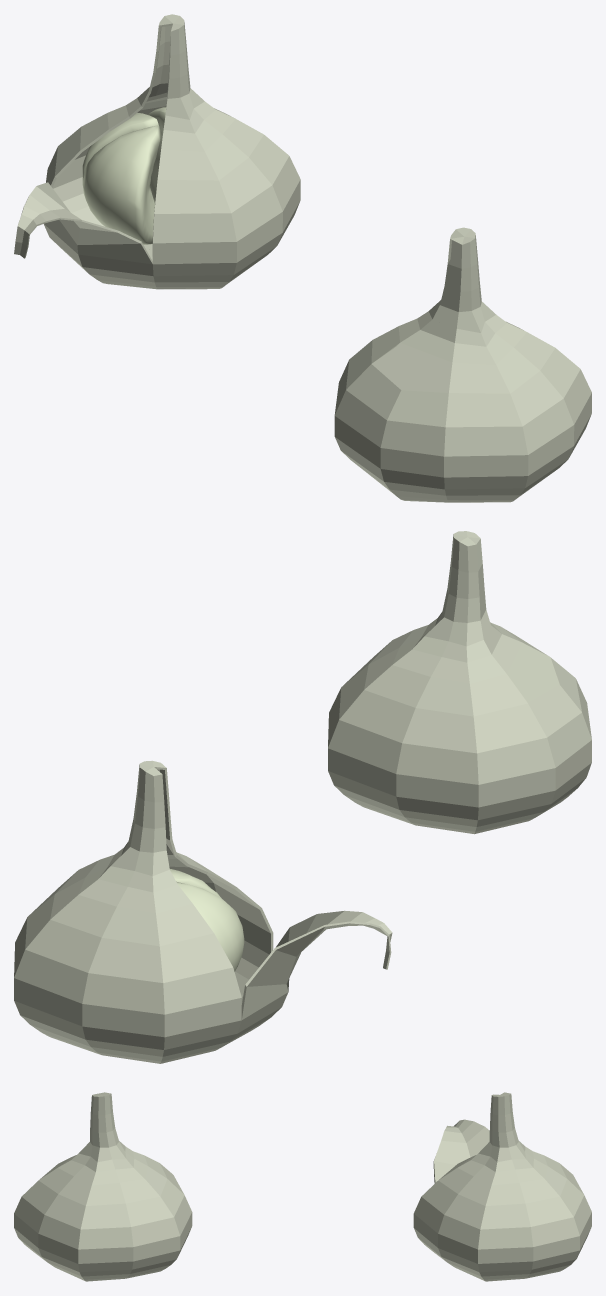
File: garlics.fbx
The picture shows the model from 3 angles, top to bottom: view 1: azimuth 30°, elevation 25°; view 2: azimuth 150°, elevation 25°; view 3: azimuth 270°, elevation 25°; orthographic projection. The views are drawn at different scales.
Visible parts, largest first — view 1: peel3.001, peel5, peel4, clove4, peel3, peel1, peel1.001, clove3, peel2; view 2: peel3.001, peel3, peel2, peel2.001, peel4, peel5, clove4, peel1, peel1.001; view 3: peel1.001, peel1, peel2.001, peel2, peel3.001, peel5, peel4, peel3.
Boxes of the visible parts, box(x1,y1,x2,y2) form: peel3.001: box(334, 229, 574, 502); peel5: box(152, 23, 282, 289); peel4: box(14, 182, 156, 289); clove4: box(82, 125, 161, 244); peel3: box(46, 16, 172, 249); peel1: box(173, 16, 300, 243); peel1.001: box(465, 229, 591, 457); clove3: box(82, 113, 159, 205); peel2: box(137, 14, 179, 114); peel3.001: box(396, 531, 591, 834); peel3: box(82, 767, 241, 1063); peel2: box(14, 764, 153, 1054); peel2.001: box(328, 534, 467, 824); peel4: box(223, 910, 392, 1046); peel5: box(152, 761, 273, 996); clove4: box(176, 881, 244, 971); peel1: box(29, 760, 153, 915); peel1.001: box(343, 531, 467, 685); peel1.001: box(38, 1095, 133, 1281); peel1: box(438, 1095, 533, 1281); peel2.001: box(101, 1093, 192, 1278); peel2: box(501, 1093, 591, 1278); peel3.001: box(14, 1092, 184, 1260); peel5: box(413, 1094, 498, 1261); peel4: box(433, 1119, 489, 1183); peel3: box(500, 1092, 583, 1194).
Size of the model in its own units: 398 by 307 by 967.
